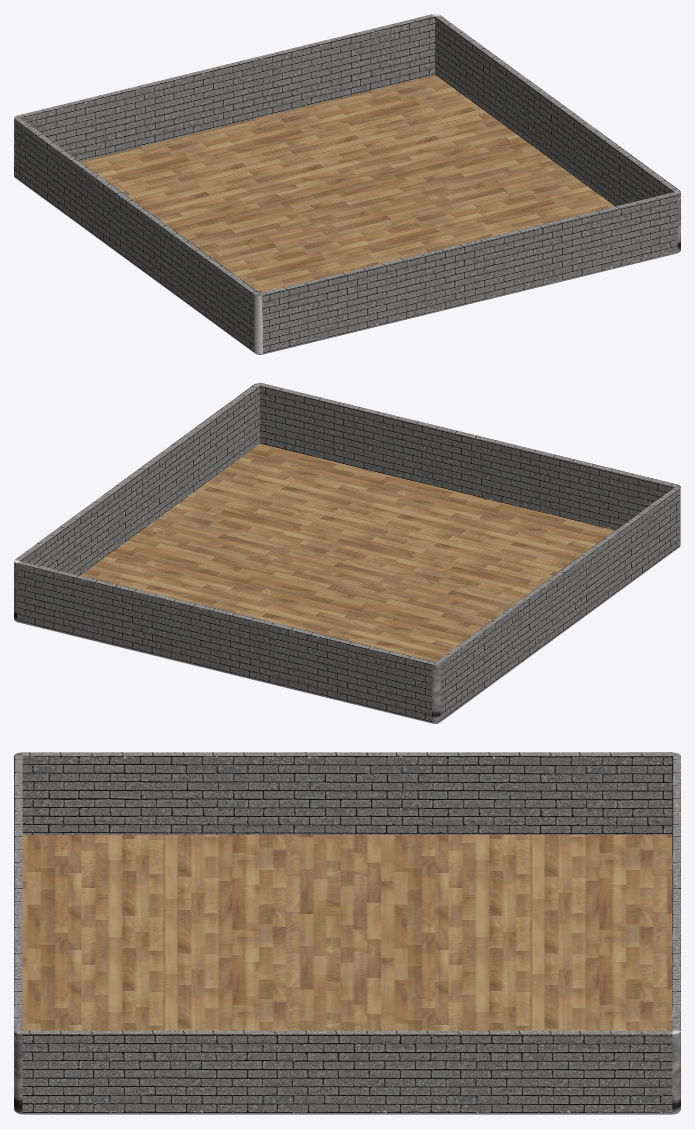
Rendered from world_wall1.dae.
3 views of the same model, one above another, from view 1: azimuth 30°, elevation 25°; view 2: azimuth 150°, elevation 25°; view 3: azimuth 270°, elevation 25° (orthographic). The views are drawn at different scales.
Visible parts, largest first — view 1: bobby_world; view 2: bobby_world; view 3: bobby_world.
Part boxes in pixels (bbox=[...]): bobby_world: bbox=[14, 14, 680, 354]; bobby_world: bbox=[14, 383, 680, 723]; bobby_world: bbox=[14, 752, 680, 1114].
Bounding box in the file's own units: 5.08 × 5.08 × 0.693.
